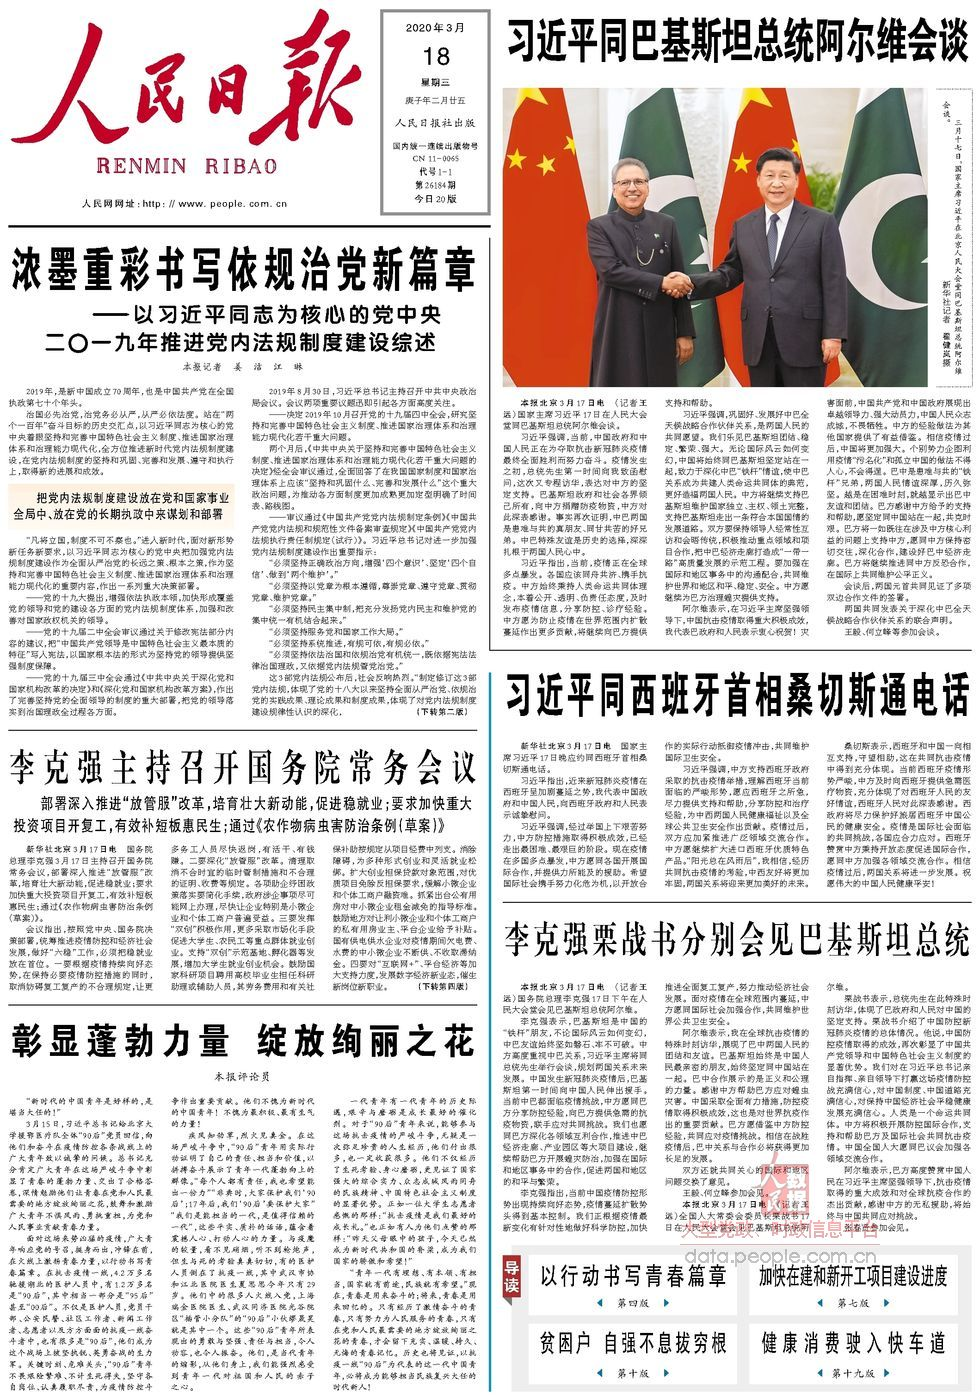pic: (497, 82, 933, 394)
